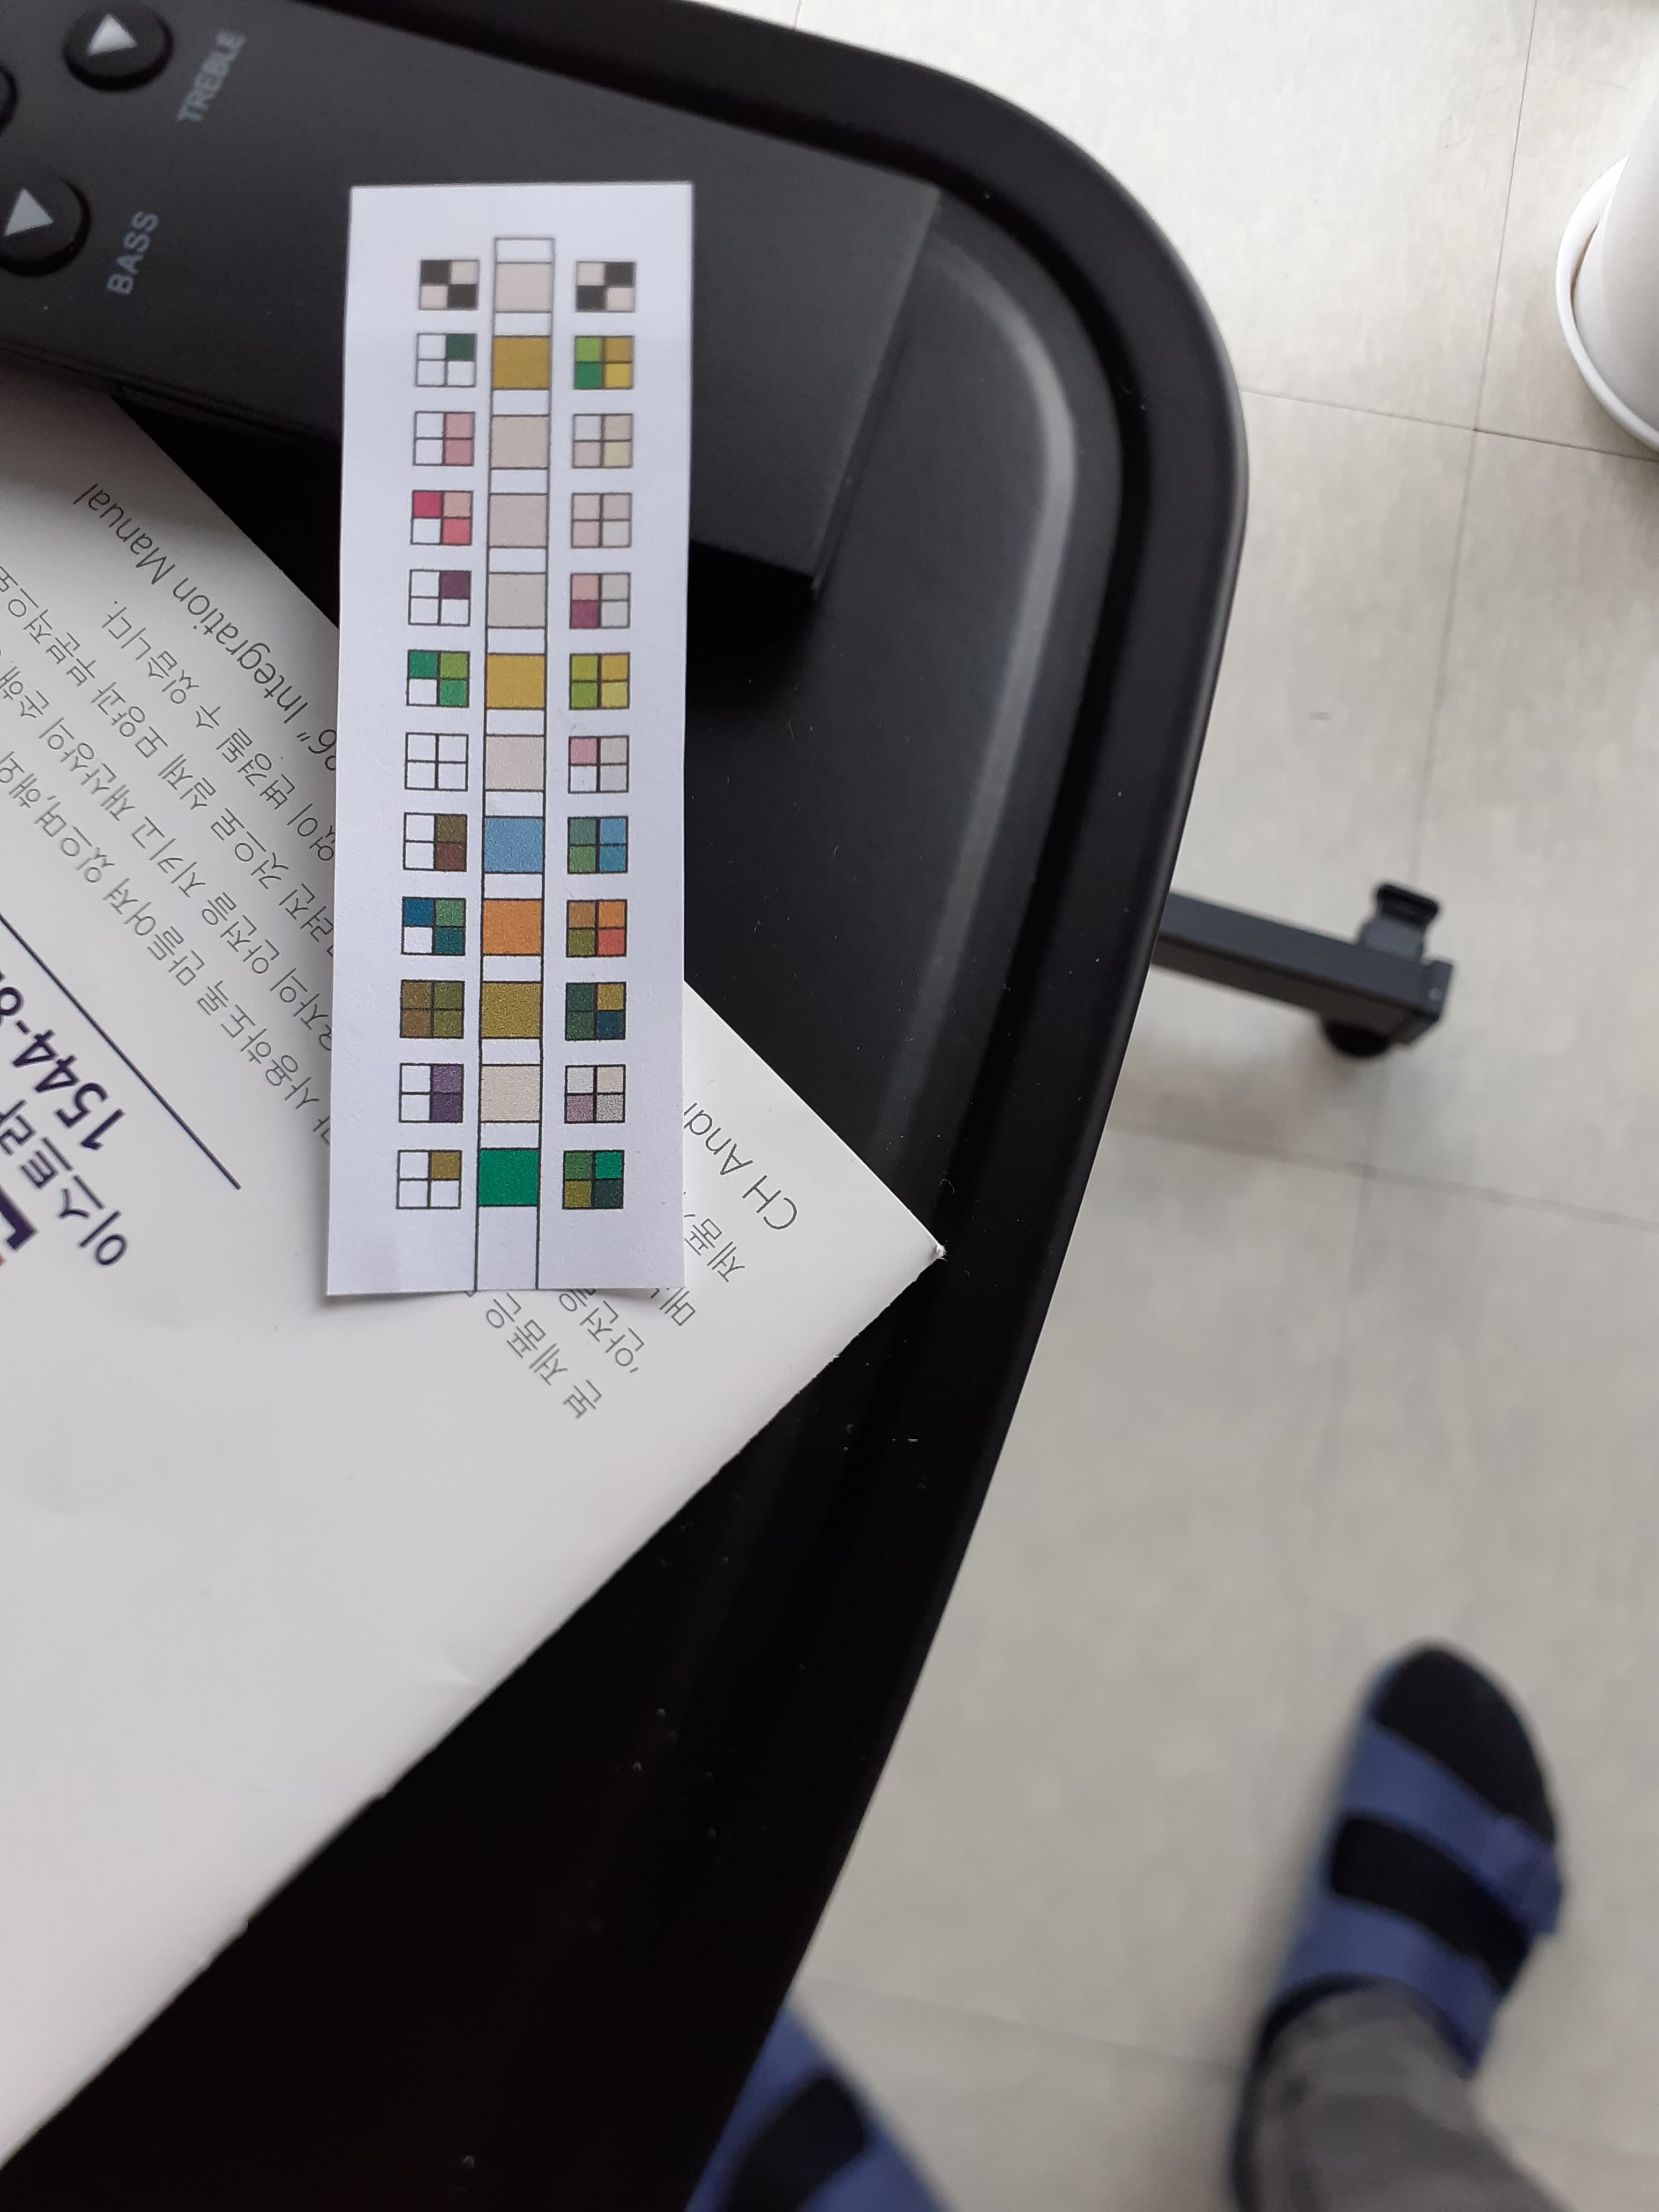tester: (342, 181, 681, 1294)
